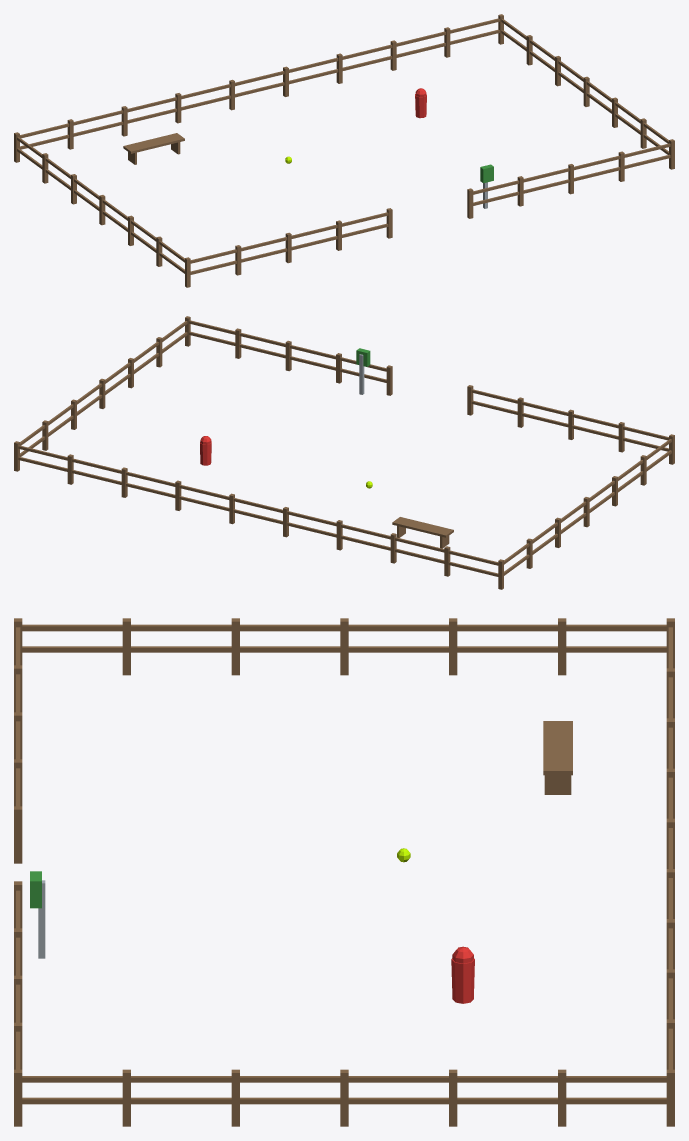
Rendered from exits_dogrun.glb.
The picture shows the model from 3 angles, top to bottom: view 1: azimuth 30°, elevation 25°; view 2: azimuth 150°, elevation 25°; view 3: azimuth 270°, elevation 25°; orthographic projection. The views are drawn at different scales.
Visible parts, largest first — view 1: ExitsDogrun_body; view 2: ExitsDogrun_body; view 3: ExitsDogrun_body.
Part boxes in pixels (x1,y1,x2,y2): ExitsDogrun_body: (14,14,674,287); ExitsDogrun_body: (14,316,674,589); ExitsDogrun_body: (14,618,674,1126).
Size of the model in its own units: 18.14 by 1.5 by 11.14.
